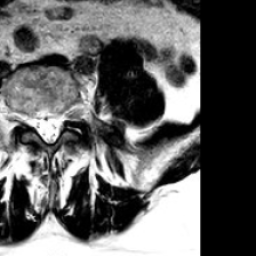CCS_normal: (43, 103, 53, 153)
LFS_normal: (64, 94, 74, 133)
LLS_normal: (53, 103, 64, 148)
RFS_normal: (23, 100, 32, 136)
RLS_normal: (32, 104, 43, 146)
